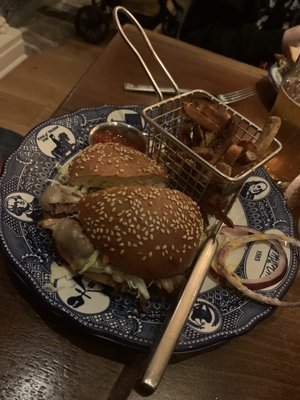sushi: (140, 88, 284, 222)
